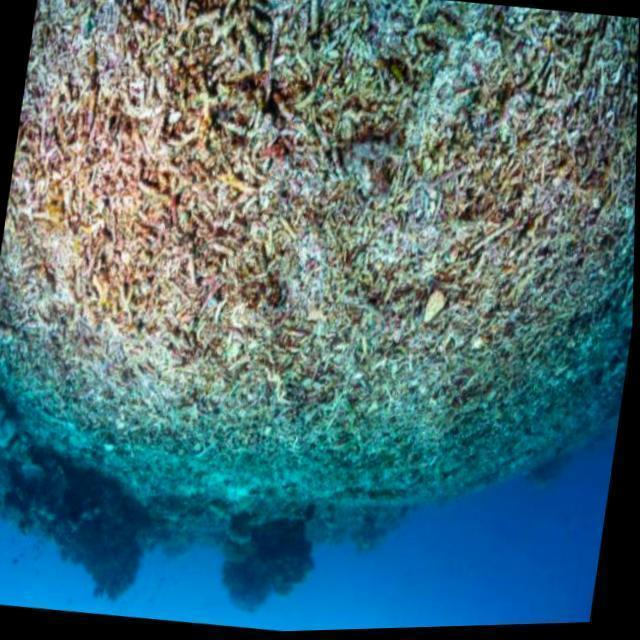Dead Coral: (46, 98, 544, 498)
